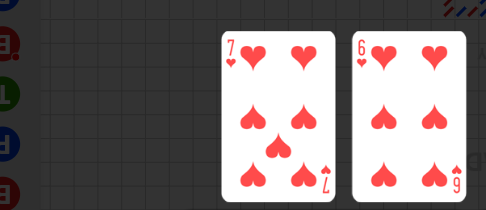6H: (450, 163, 463, 195)
7H: (225, 38, 238, 70)
